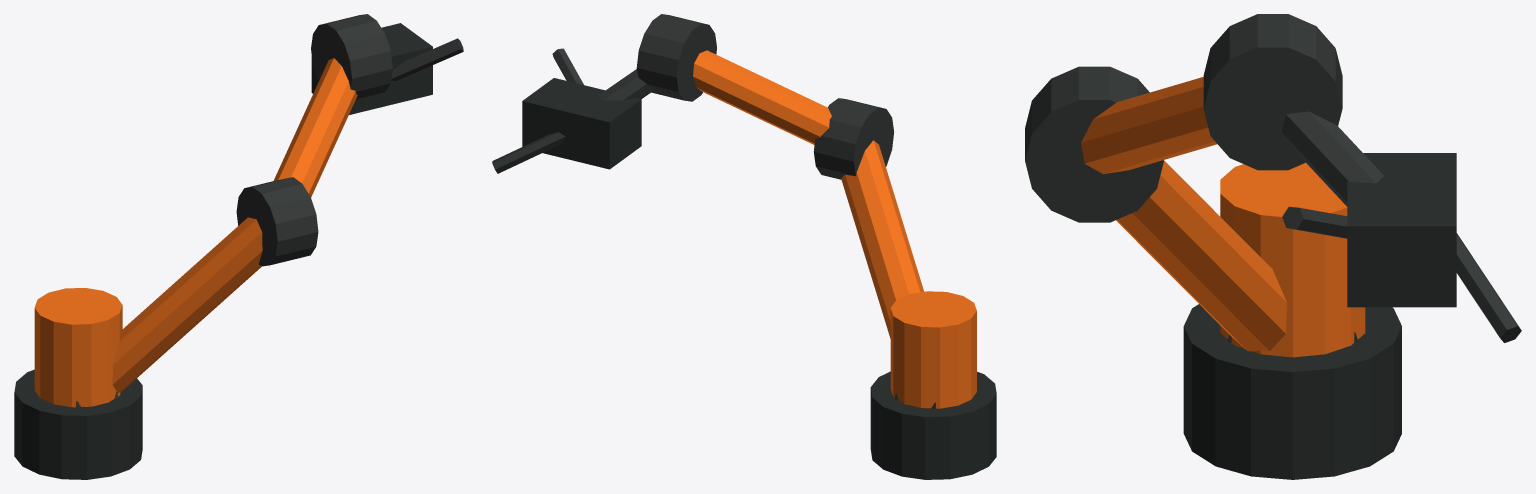
Rendered from Bastion_WarFactoryCMV2_RobotArmA.obj.
3 renders of one model, left to right at view 1: azimuth 30°, elevation 25°; view 2: azimuth 150°, elevation 25°; view 3: azimuth 270°, elevation 25°, orthographic. The views are drawn at different scales.
Visible parts, largest first — view 1: arm_turntable_0, arm_base_lit_1, arm_upper_2, arm_joint_6, arm_forearm_3, arm_joint_7, arm_toolhead_8, claw_9; view 2: arm_turntable_0, arm_base_lit_1, arm_toolhead_8, arm_upper_2, arm_forearm_3, arm_joint_7, arm_joint_6, claw_10, arm_wrist_4; view 3: arm_turntable_0, arm_joint_7, arm_toolhead_8, arm_base_lit_1, arm_upper_2, arm_joint_6, arm_forearm_3, arm_wrist_4, claw_10, claw_9.
Boxes of the visible parts, x1,y1,x2,y2 form: arm_turntable_0: (14,369,142,479); arm_base_lit_1: (34,288,122,407); arm_upper_2: (112,217,262,392); arm_joint_6: (236,177,318,266); arm_forearm_3: (273,58,357,197); arm_joint_7: (311,14,392,99); arm_toolhead_8: (311,23,432,114); claw_9: (391,38,463,80); arm_turntable_0: (870,371,996,479); arm_base_lit_1: (890,291,976,408); arm_toolhead_8: (522,78,641,169); arm_upper_2: (841,140,924,338); arm_forearm_3: (693,50,831,144); arm_joint_7: (636,14,716,101); arm_joint_6: (813,98,893,179); claw_10: (492,132,565,173); arm_wrist_4: (597,69,652,100); arm_turntable_0: (1183,304,1401,479); arm_joint_7: (1203,14,1342,170); arm_toolhead_8: (1347,153,1456,307); arm_base_lit_1: (1220,162,1365,357); arm_upper_2: (1116,160,1286,351); arm_joint_6: (1025,66,1163,222); arm_forearm_3: (1081,77,1217,174); arm_wrist_4: (1281,111,1383,206); claw_10: (1456,233,1521,342); claw_9: (1282,206,1347,238).
Bounding box in the file's own units: 1.74 × 1.39 × 1.
Materials: 3 (3 with a texture image).
